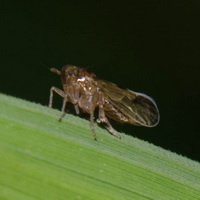insect: (49, 65, 159, 138)
